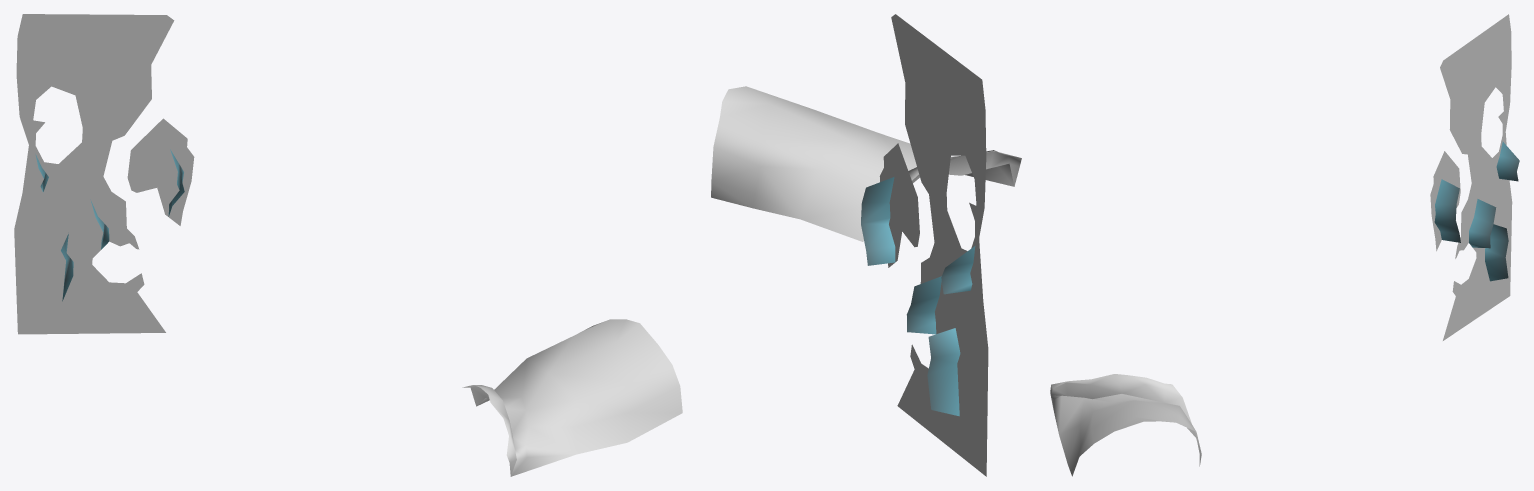
The model's file is MtBlizzardIce.fbx.
The picture shows the model from 3 angles, left to right: view 1: azimuth 30°, elevation 25°; view 2: azimuth 150°, elevation 25°; view 3: azimuth 270°, elevation 25°; orthographic projection. The views are drawn at different scales.
Visible parts, largest first — view 1: MtBlizzardIce; view 2: MtBlizzardIce; view 3: MtBlizzardIce.
Part boxes in pixels (left/top/right/bottom): MtBlizzardIce: left=14, top=14, right=682, bottom=476; MtBlizzardIce: left=711, top=14, right=1021, bottom=476; MtBlizzardIce: left=1050, top=14, right=1519, bottom=476.
Bounding box in the file's own units: 3421 × 2579 × 3710.
